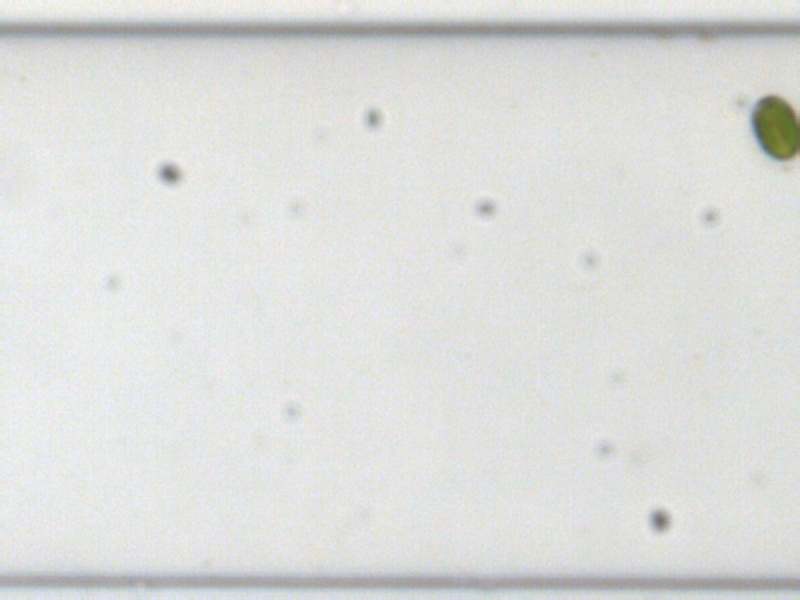Platymonas: (747, 92, 799, 165)
